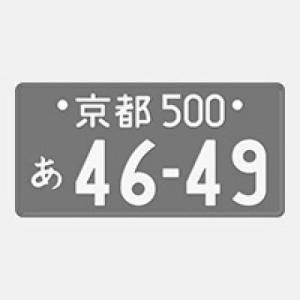Plate: (16, 84, 285, 218)
